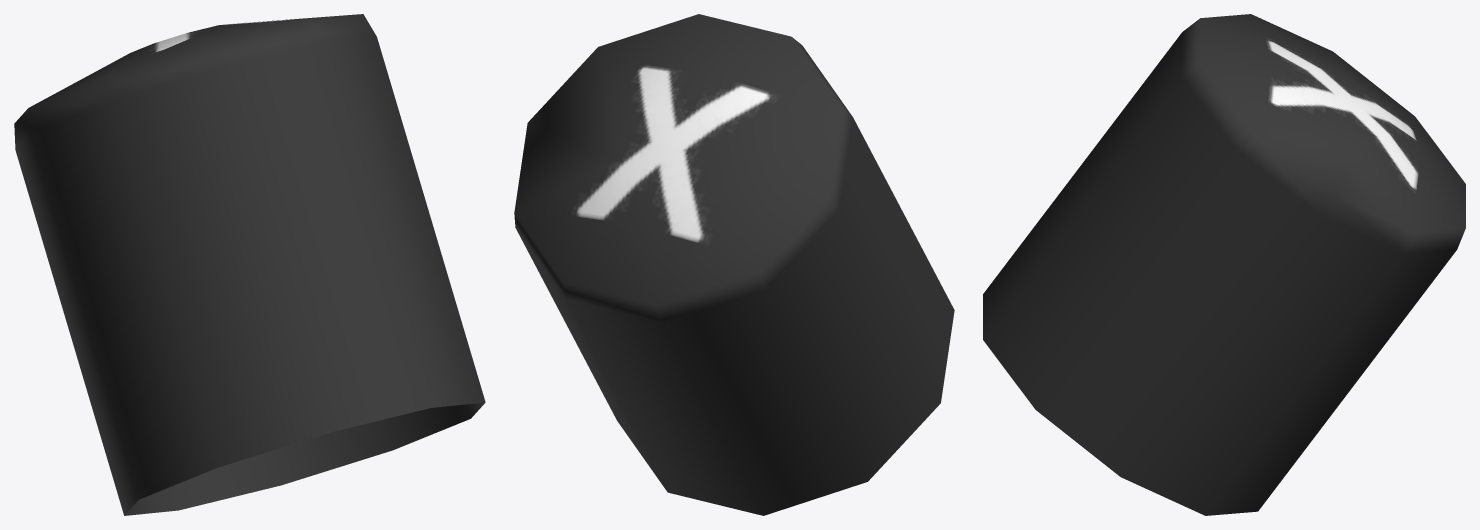
Rendered from crystal_controller_left_button2.obj.
3 views of the same model, side by side, from view 1: azimuth 30°, elevation 25°; view 2: azimuth 150°, elevation 25°; view 3: azimuth 270°, elevation 25° (orthographic). The views are drawn at different scales.
Visible parts, largest first — view 1: crystal_controller_left_button2; view 2: crystal_controller_left_button2; view 3: crystal_controller_left_button2.
Boxes of the visible parts, x1,y1,x2,y2 form: crystal_controller_left_button2: (14, 14, 485, 515); crystal_controller_left_button2: (514, 14, 954, 515); crystal_controller_left_button2: (983, 14, 1465, 515).
Size of the model in its own units: 0.00983 by 0.0139 by 0.0135.
Materials: 1 (1 with a texture image).
